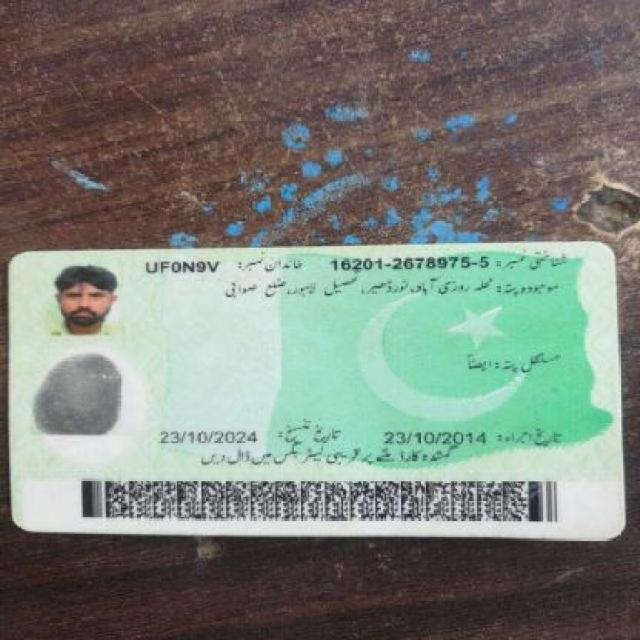Back: (5, 238, 623, 540)
